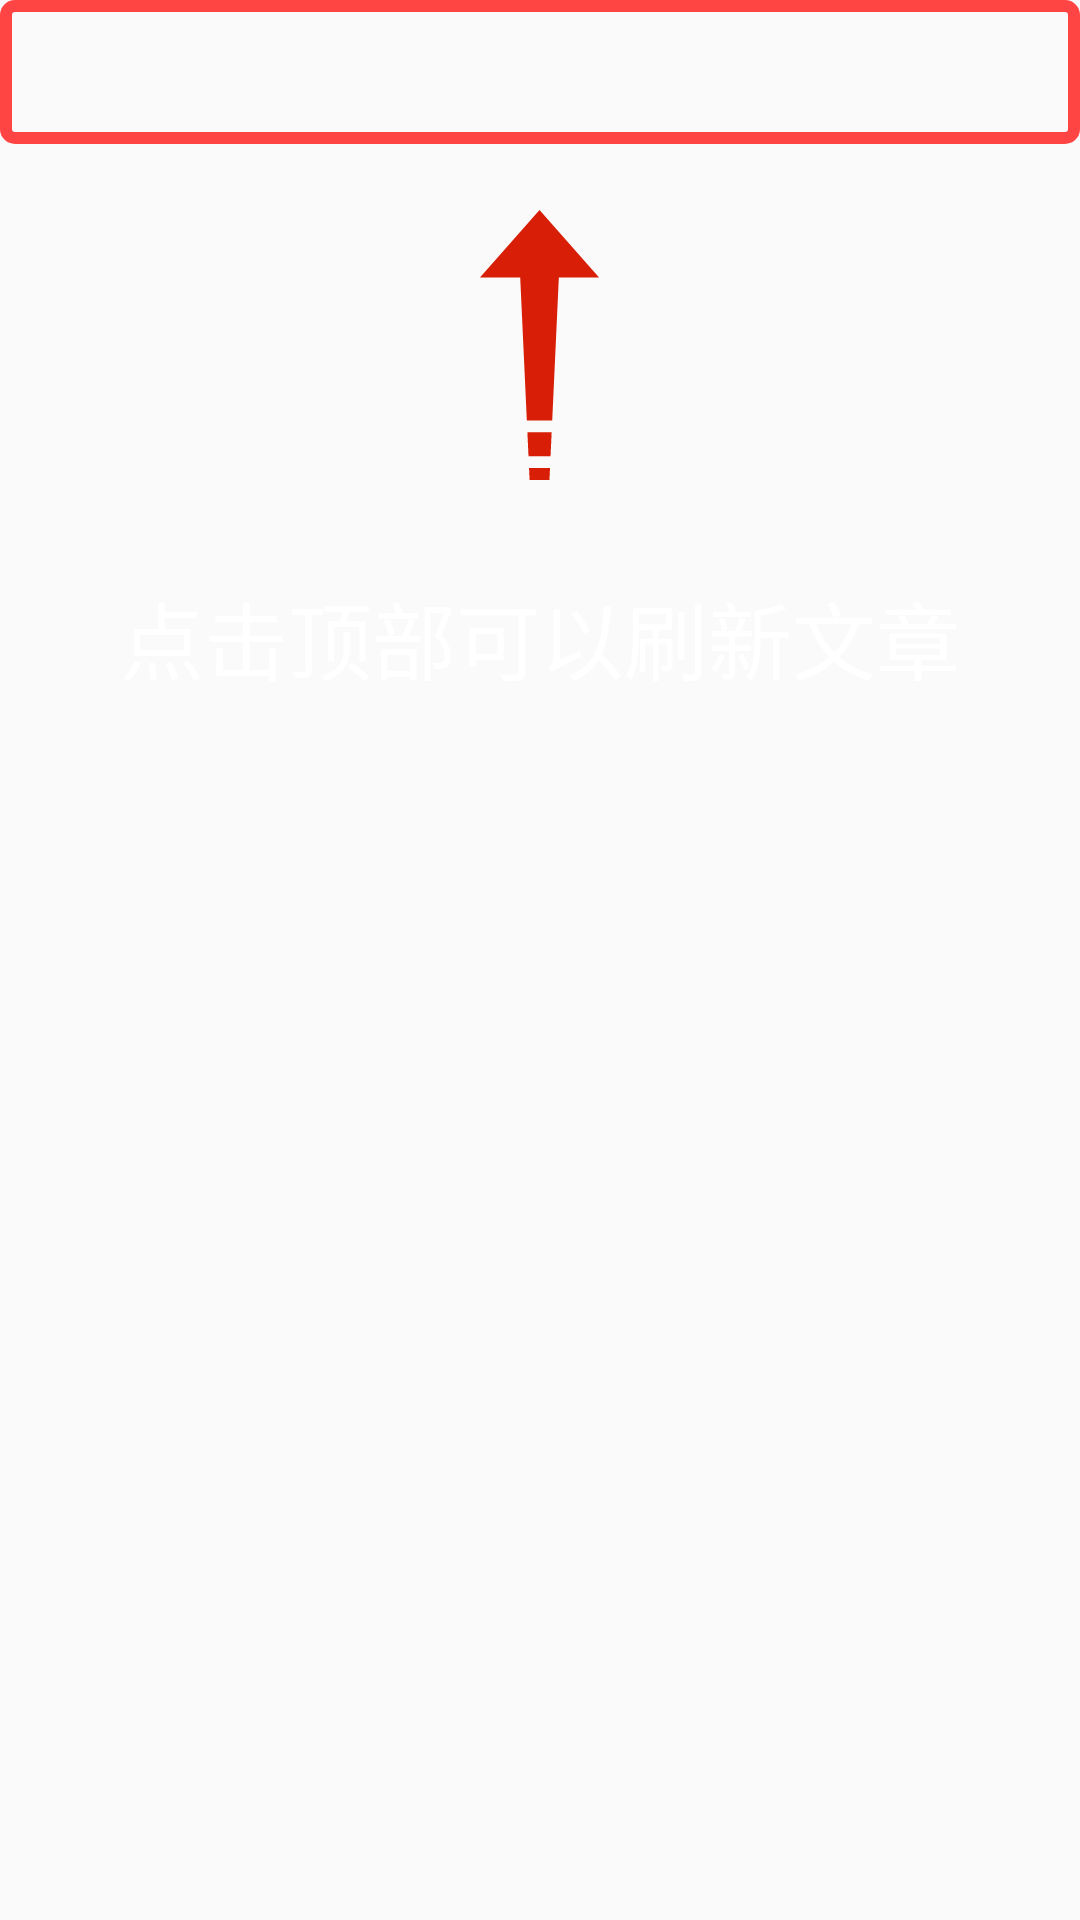

Icons on this 1080 × 1920 Android screen, each with its box as (x1, y1, x2, y2):
upper: (480, 210, 599, 480)
